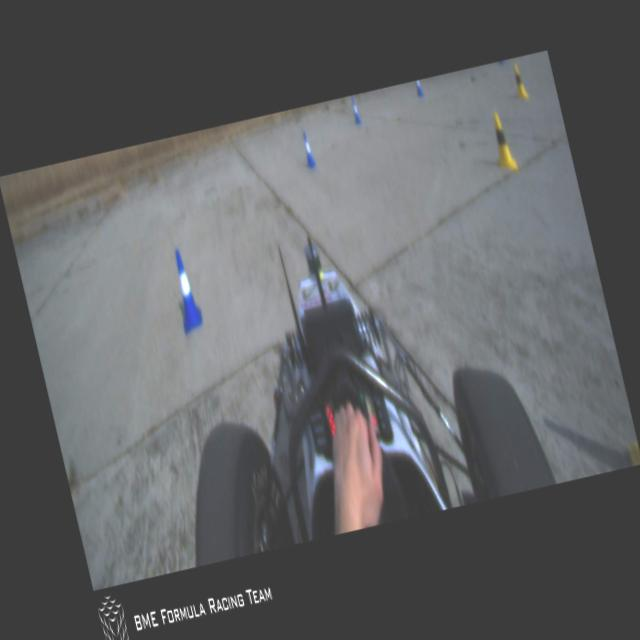blue_cone: (166, 248, 204, 334), (299, 130, 316, 170), (350, 95, 361, 124), (414, 80, 424, 97)
yellow_cone: (485, 109, 518, 175), (509, 61, 529, 102)
